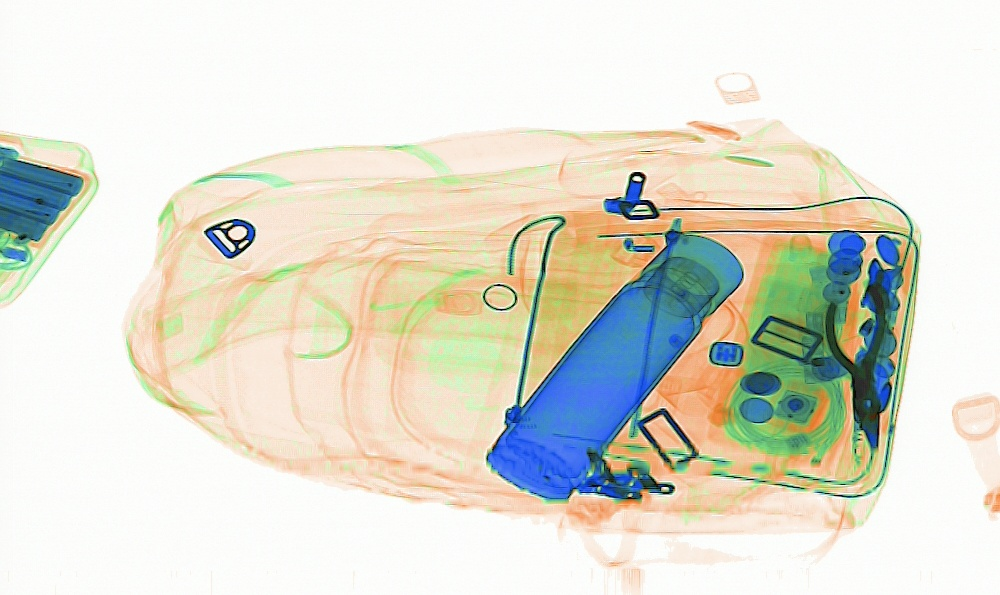powerbank: (1, 143, 92, 251)
